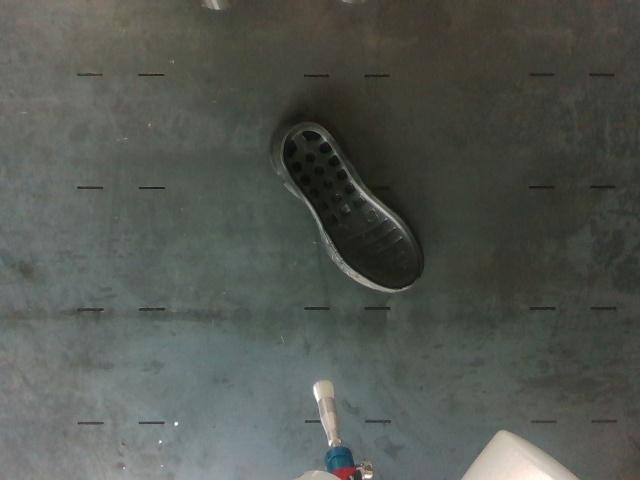shoes: (282, 123, 419, 289)
